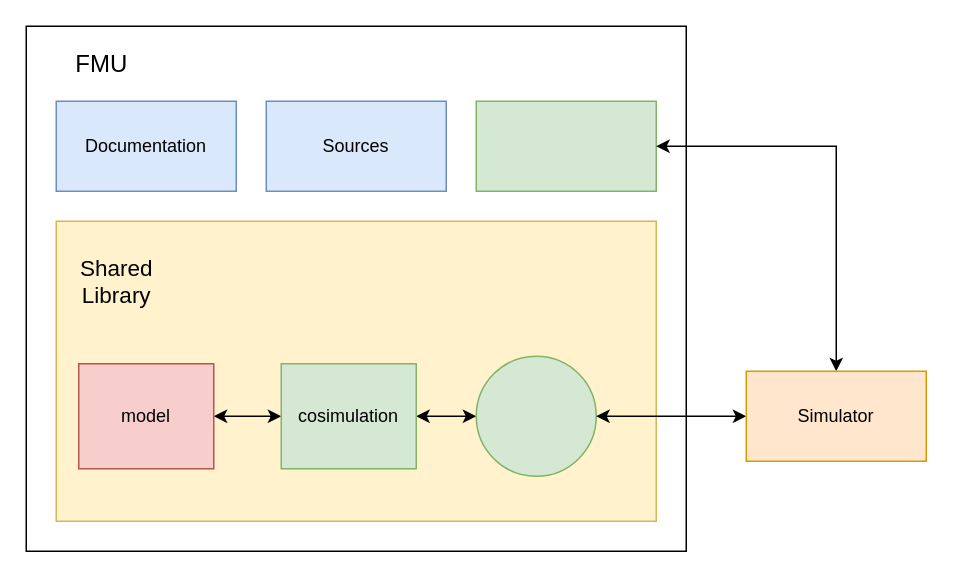
The diagram is 953 pixels wide and 578 high, and some of its shapes have lost their labels. Each missing label, with the centre of its shape:
"FMI" belongs at point 535,415.
"Model Description.xml" belongs at point 565,145.
